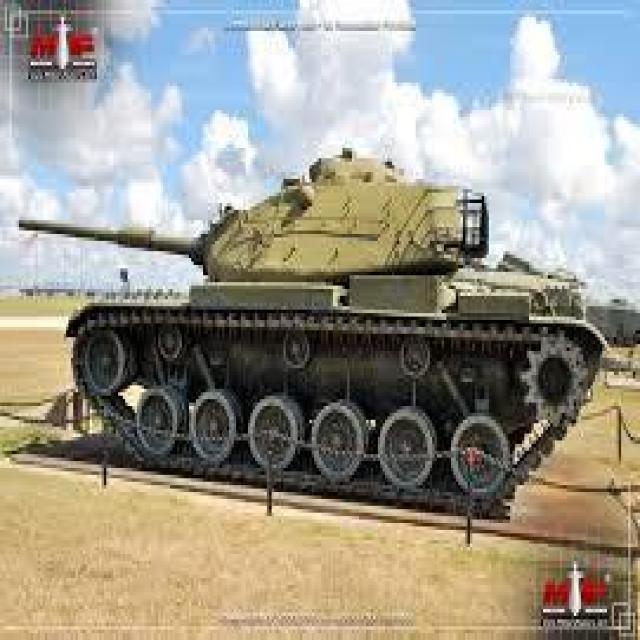MIL_MBT: (53, 158, 566, 526)
